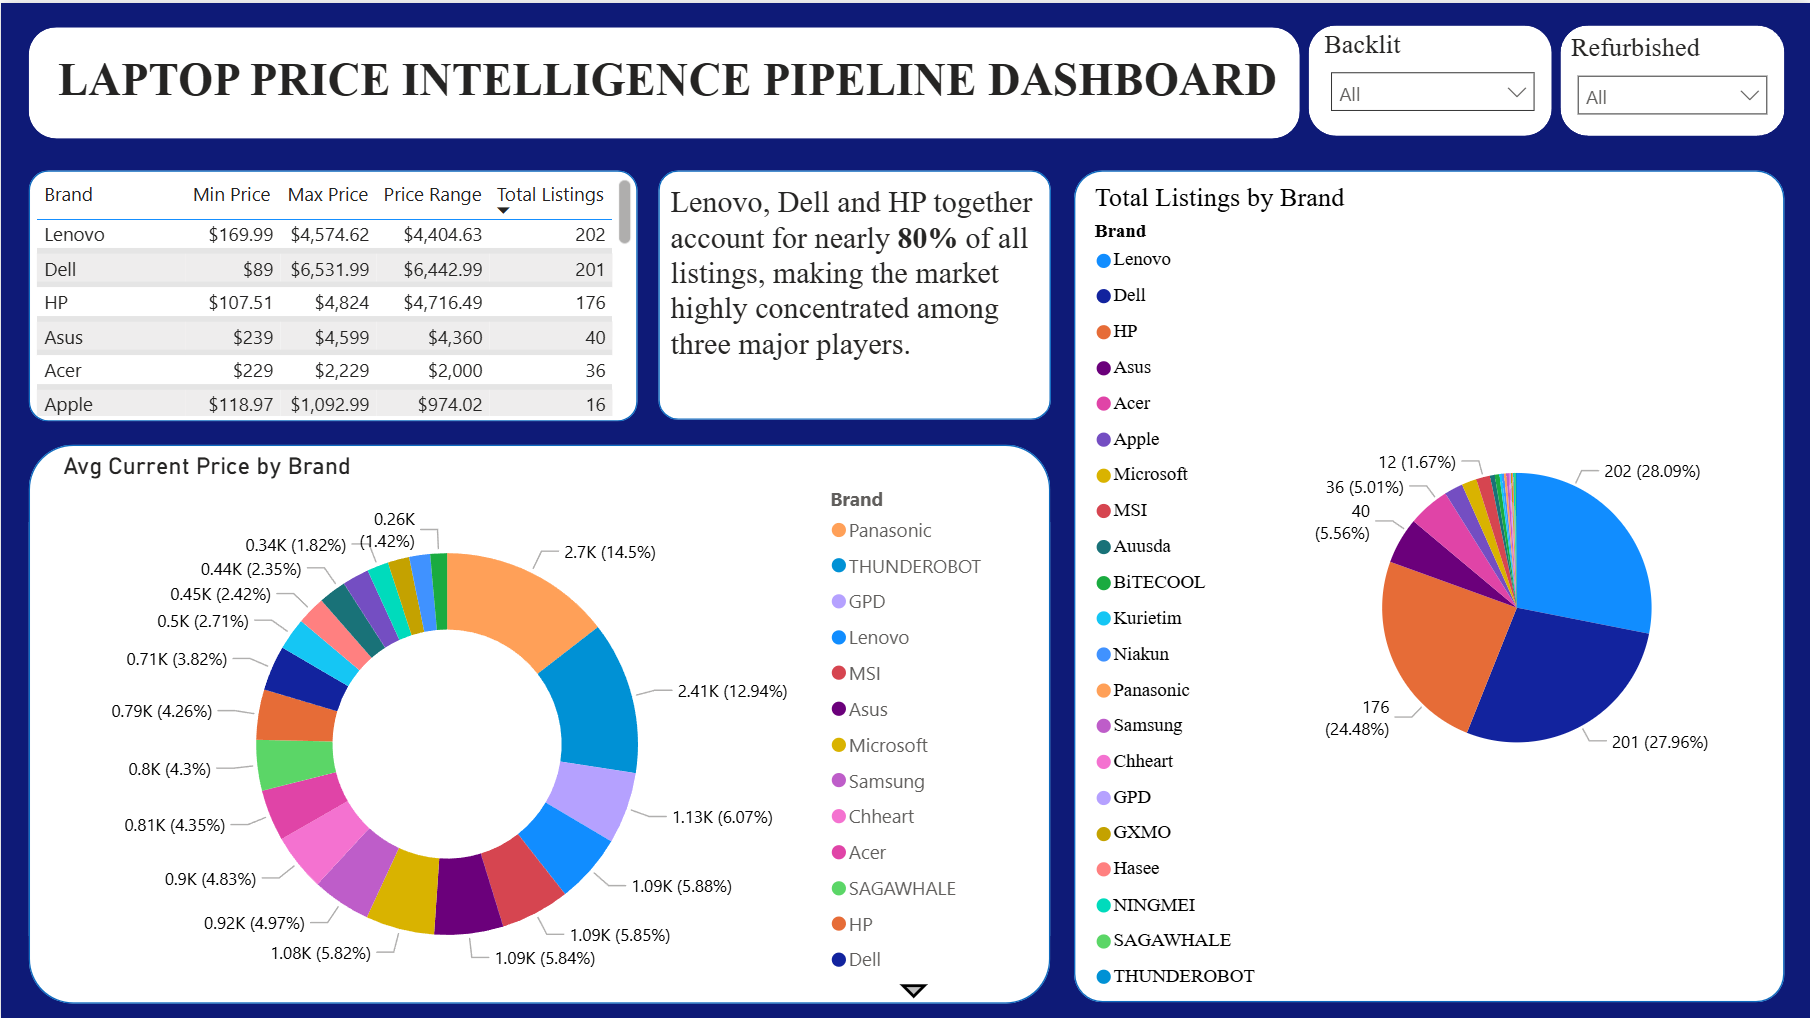

The dashboard page shown, as its layout file describes it:
{"tool":"powerbi","page":{"name":"Page 3","canvas":[1280,720],"ordinal":2},"visuals":[{"type":"shape","box":[20,118.8,430.6,177.6],"z":0},{"type":"shape","box":[20,311.8,722.4,395.3],"z":1000},{"type":"shape","box":[758.8,118.8,502.3,588.2],"z":2000},{"type":"shape","box":[20,16.5,898.8,78.8],"z":3000},{"type":"textbox","box":[35.3,30.6,871.8,55.3],"z":4000},{"type":"pieChart","fields":{"Y":["_Measures.Total Listings"],"Category":["DIM_BRAND.Brand"]},"box":[768.2,127.1,483.5,580],"z":5000},{"type":"tableEx","fields":{"Values":["DIM_BRAND.BRAND_NAME","_Measures.Min Price","_Measures.Max Price","_Measures.Price Range","_Measures.Total Listings"]},"box":[20,119,431,177],"z":6000},{"type":"donutChart","fields":{"Y":["_Measures.Avg Current Price"],"Category":["DIM_BRAND.Brand"]},"box":[38.8,317.6,668.2,394.1],"z":7000},{"type":"shape","box":[464.7,118.8,277.6,176.5],"z":8000},{"type":"textbox","box":[468.2,123.5,270.6,168.2],"z":9000},{"type":"shape","box":[924.4,15.9,171.9,78],"z":9001},{"type":"shape","box":[1102.4,15.9,158.5,78],"z":9003},{"type":"slicer","title":"Refurbished","fields":{"Values":["DIM_FLAGS.IS_REFURBISHED"]},"box":[1104.9,20.7,153.7,75.6],"z":9004},{"type":"slicer","title":"Backlit","fields":{"Values":["DIM_FLAGS.HAS_BACKLIT_KEYBOARD"]},"box":[930.5,18.3,163.4,75.6],"z":9005}]}

Visuals, with their boxes in screenshot pixels (x1, y1, x2, y2), scaled from the page's 1280x720 canvas onto the 1810x1018 screenshot:
shape: (left=28, top=168, right=637, bottom=419)
shape: (left=28, top=441, right=1050, bottom=1000)
shape: (left=1073, top=168, right=1783, bottom=1000)
shape: (left=28, top=23, right=1299, bottom=135)
textbox: (left=50, top=43, right=1283, bottom=121)
pieChart - _Measures.Total Listings x DIM_BRAND.Brand: (left=1086, top=180, right=1770, bottom=1000)
tableEx - DIM_BRAND.BRAND_NAME x _Measures.Min Price: (left=28, top=168, right=638, bottom=419)
donutChart - _Measures.Avg Current Price x DIM_BRAND.Brand: (left=55, top=449, right=1000, bottom=1006)
shape: (left=657, top=168, right=1050, bottom=418)
textbox: (left=662, top=175, right=1045, bottom=412)
shape: (left=1307, top=22, right=1550, bottom=133)
shape: (left=1559, top=22, right=1783, bottom=133)
"Refurbished" slicer: (left=1562, top=29, right=1780, bottom=136)
"Backlit" slicer: (left=1316, top=26, right=1547, bottom=133)
